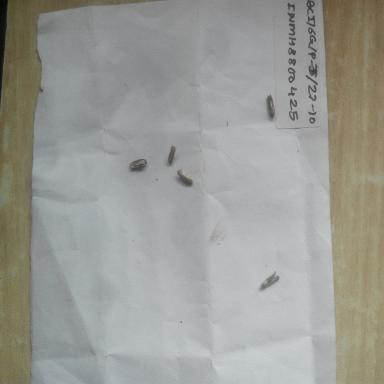pbw: (255, 263, 281, 294), (175, 167, 195, 186), (128, 156, 148, 172), (265, 93, 277, 119), (165, 143, 177, 166)
